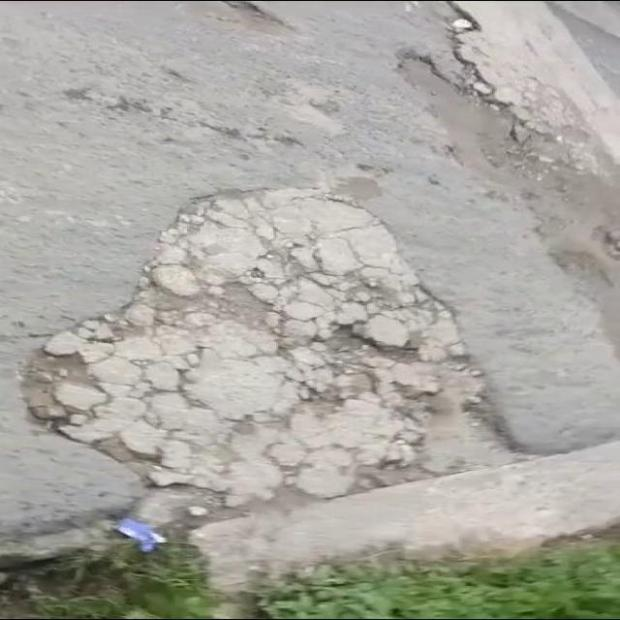lubang: (22, 189, 508, 506), (383, 7, 597, 313), (187, 3, 311, 53)
